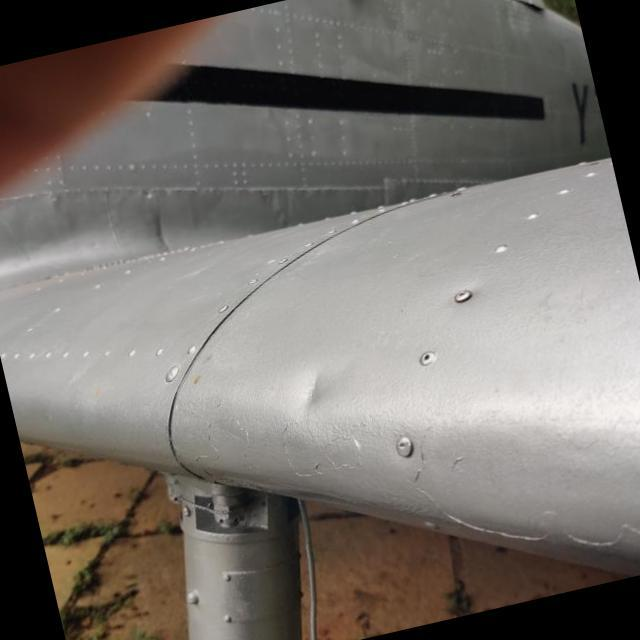Dent: (259, 328, 372, 441)
